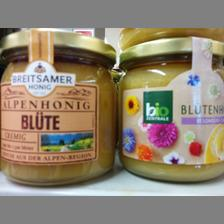Honig: (0, 28, 116, 183), (119, 37, 223, 182)
